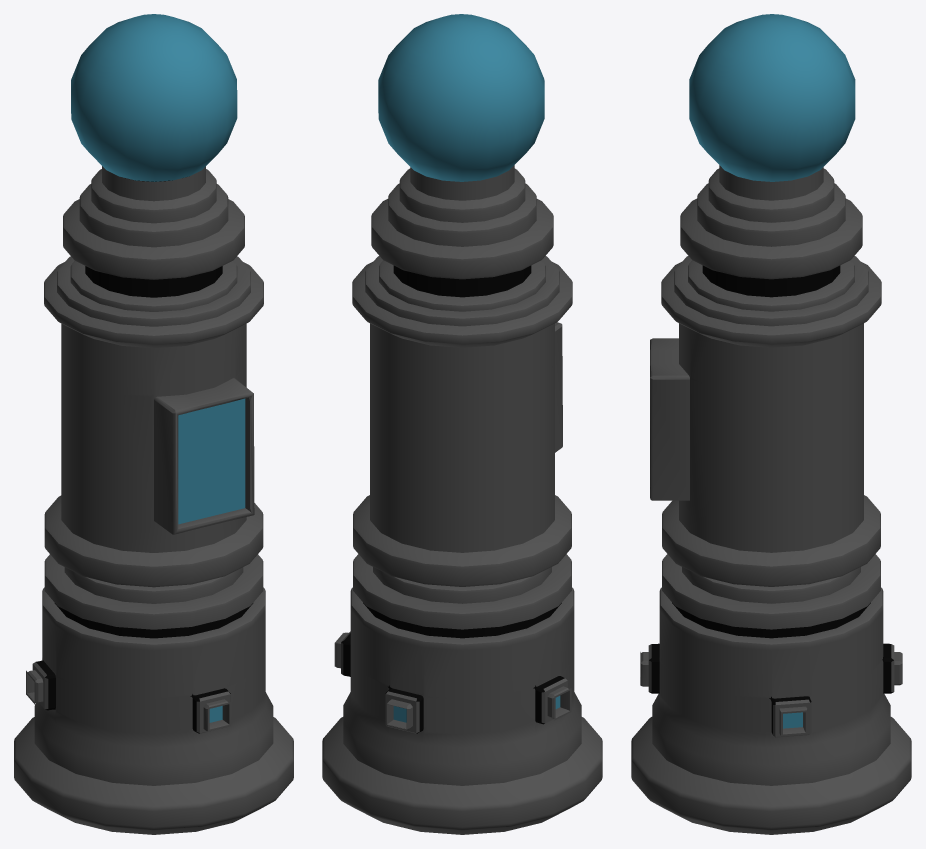
File: Scrambler.FBX
3 views of the same model, side by side, from view 1: azimuth 30°, elevation 25°; view 2: azimuth 150°, elevation 25°; view 3: azimuth 270°, elevation 25° (orthographic).
Parts seen in each view (by area): view 1: Cylinder001; view 2: Cylinder001; view 3: Cylinder001.
Part boxes in pixels (left/top/right/bottom): Cylinder001: left=14, top=14, right=293, bottom=834; Cylinder001: left=322, top=14, right=602, bottom=834; Cylinder001: left=631, top=14, right=911, bottom=834.
Bounding box in the file's own units: 93.96 × 278 × 92.53.
